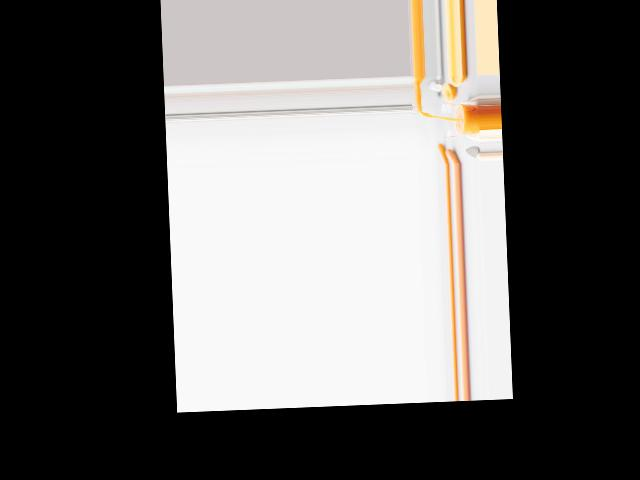carrot: (438, 141, 462, 164)
